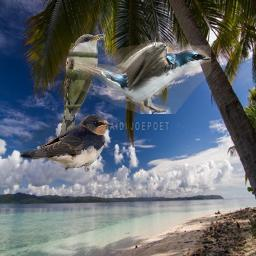Cuckoo: (60, 34, 105, 145)
Swallow: (73, 40, 211, 114), (19, 113, 112, 172)
